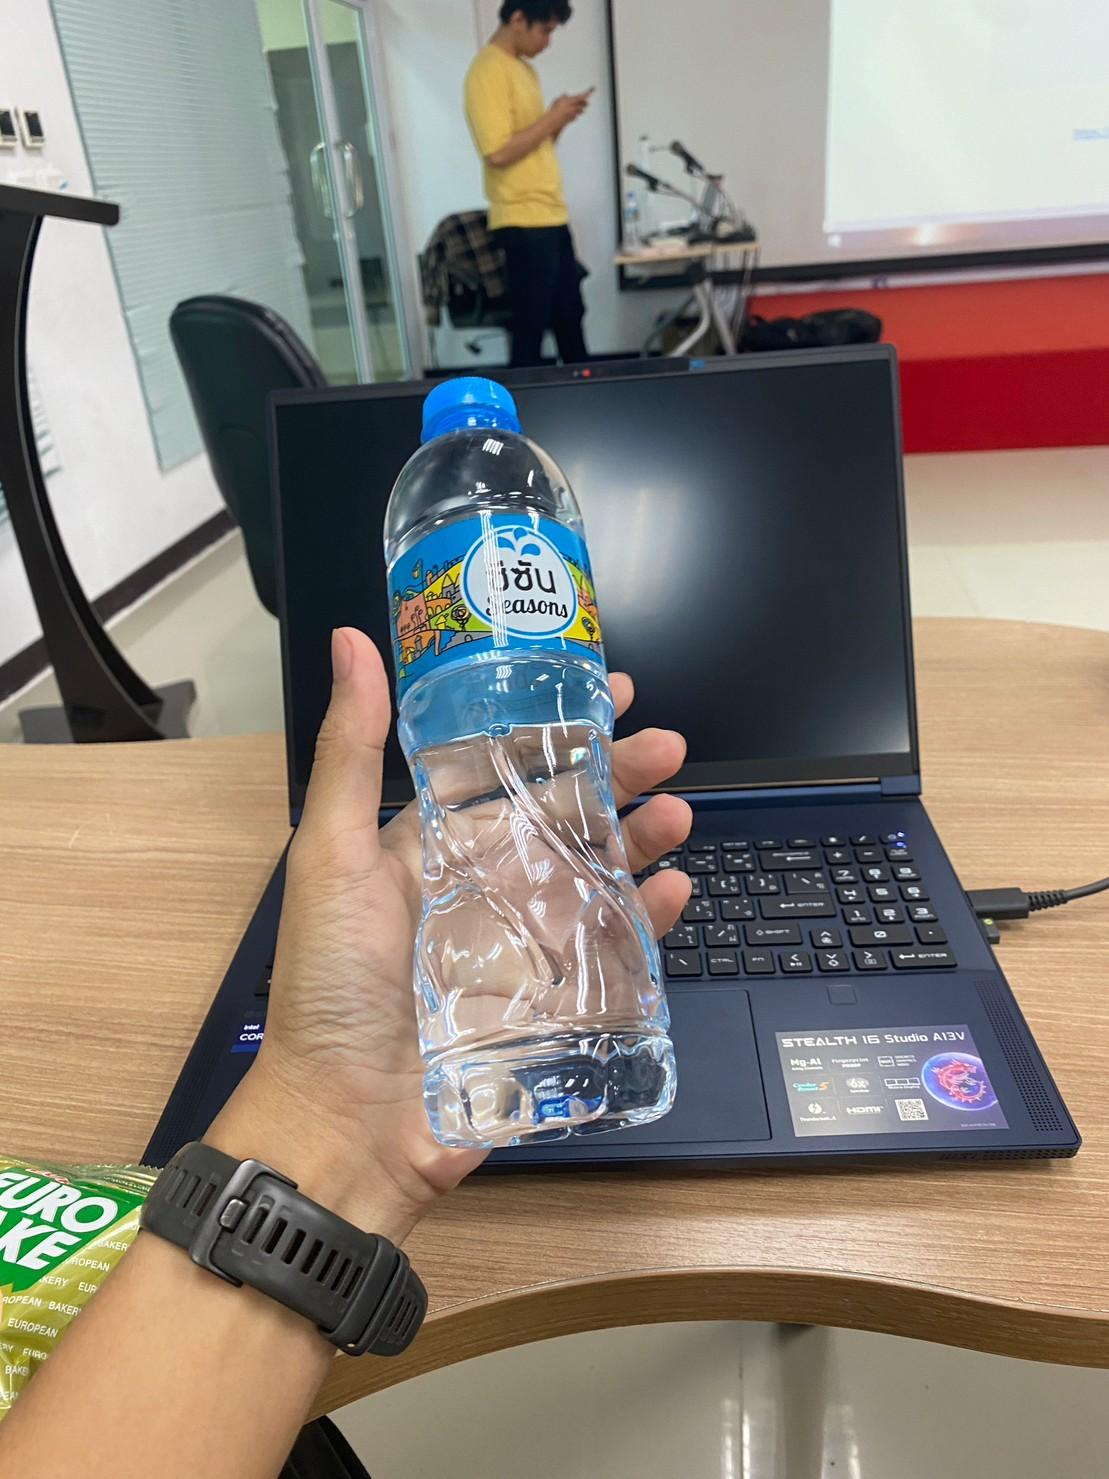bottle: (356, 347, 694, 1177)
